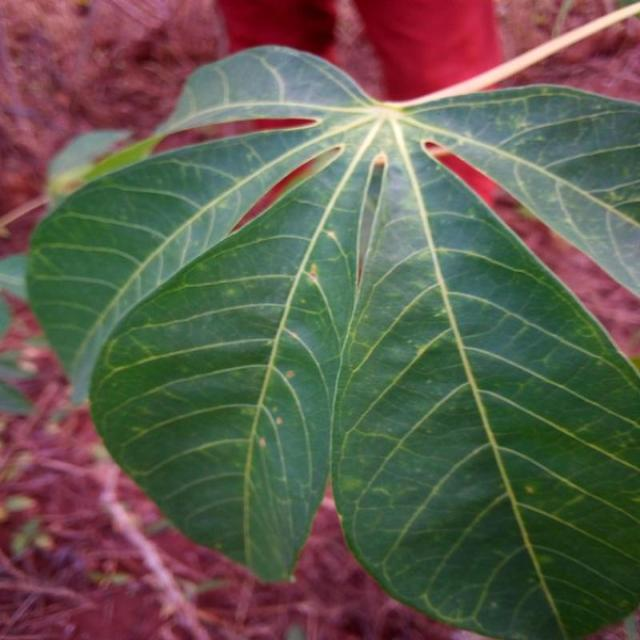cassava leaf: (25, 41, 638, 638)
